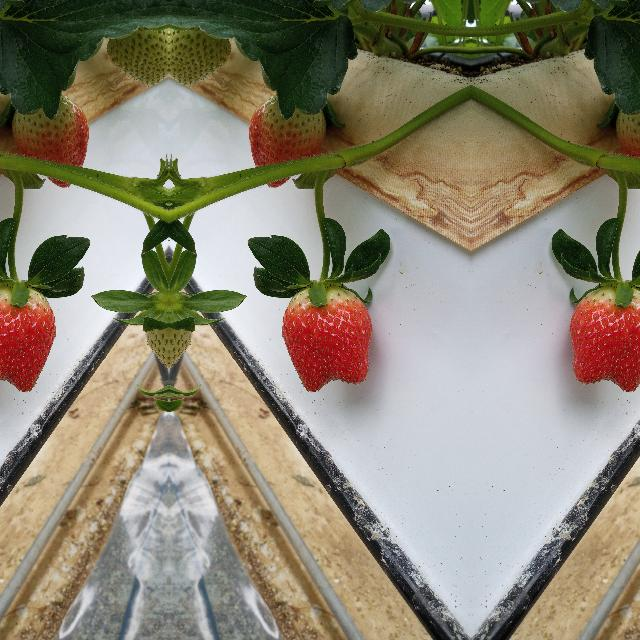Health_100: (280, 286, 372, 392), (569, 286, 640, 391), (0, 286, 56, 391)
Health_25: (168, 7, 236, 85), (100, 7, 168, 85)
Health_75: (244, 90, 328, 190), (8, 90, 92, 190), (612, 90, 640, 190)
